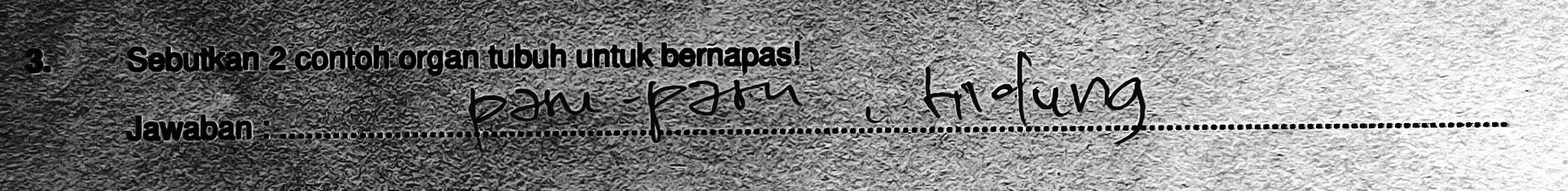jawaban: (920, 50, 1147, 150), (645, 73, 807, 146), (469, 77, 607, 151)
